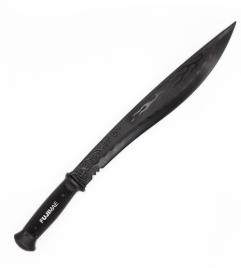MACHETTE: (0, 7, 241, 268)
